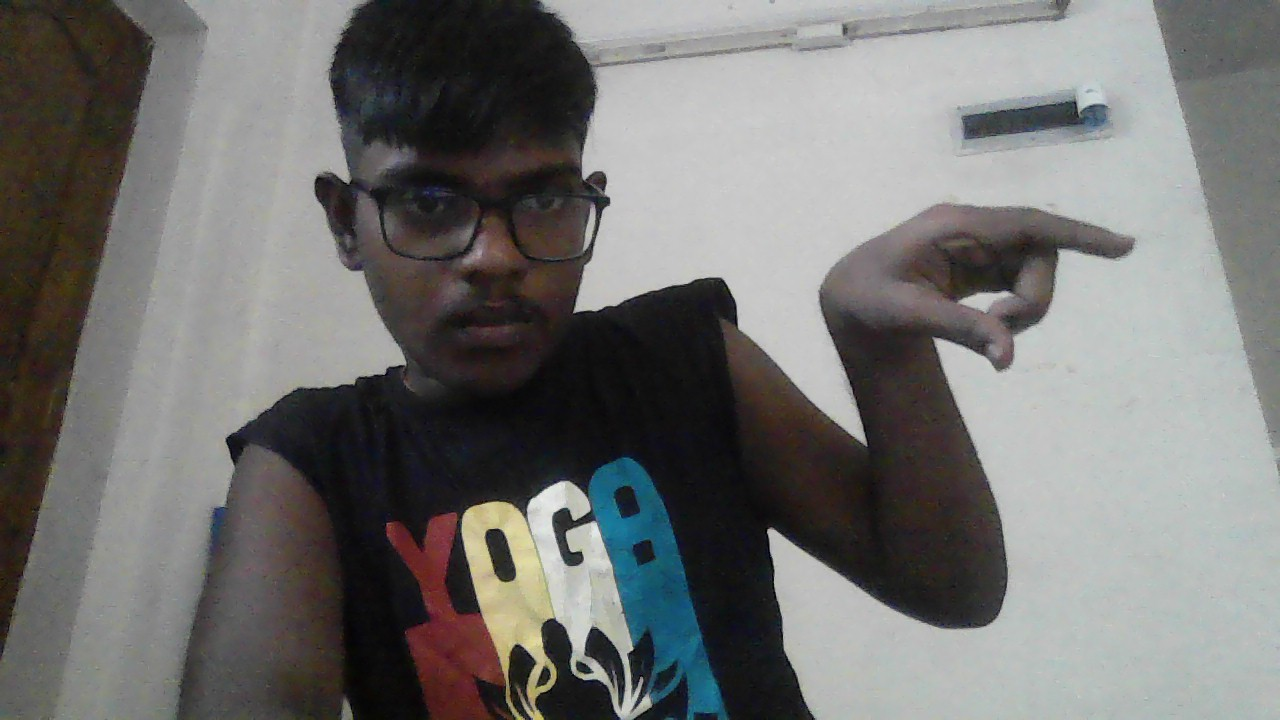Q: (818, 203, 1136, 372)
